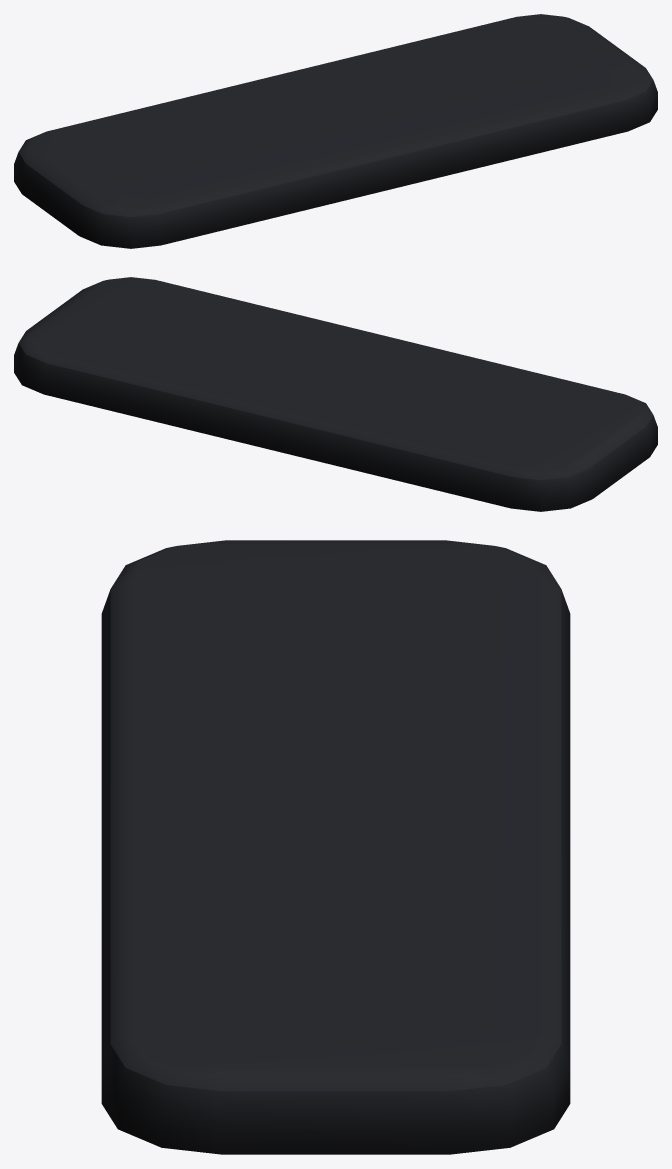
The model's file is bottone_v02.fbx.
3 views of the same model, one above another, from view 1: azimuth 30°, elevation 25°; view 2: azimuth 150°, elevation 25°; view 3: azimuth 270°, elevation 25° (orthographic). The views are drawn at different scales.
Parts seen in each view (by area): view 1: bottone_v02; view 2: bottone_v02; view 3: bottone_v02.
Boxes of the visible parts, x1,y1,x2,y2 form: bottone_v02: [14, 14, 657, 248]; bottone_v02: [14, 277, 657, 511]; bottone_v02: [101, 540, 570, 1154].
Size of the model in its own units: 8.1 by 0.4732 by 2.88.
